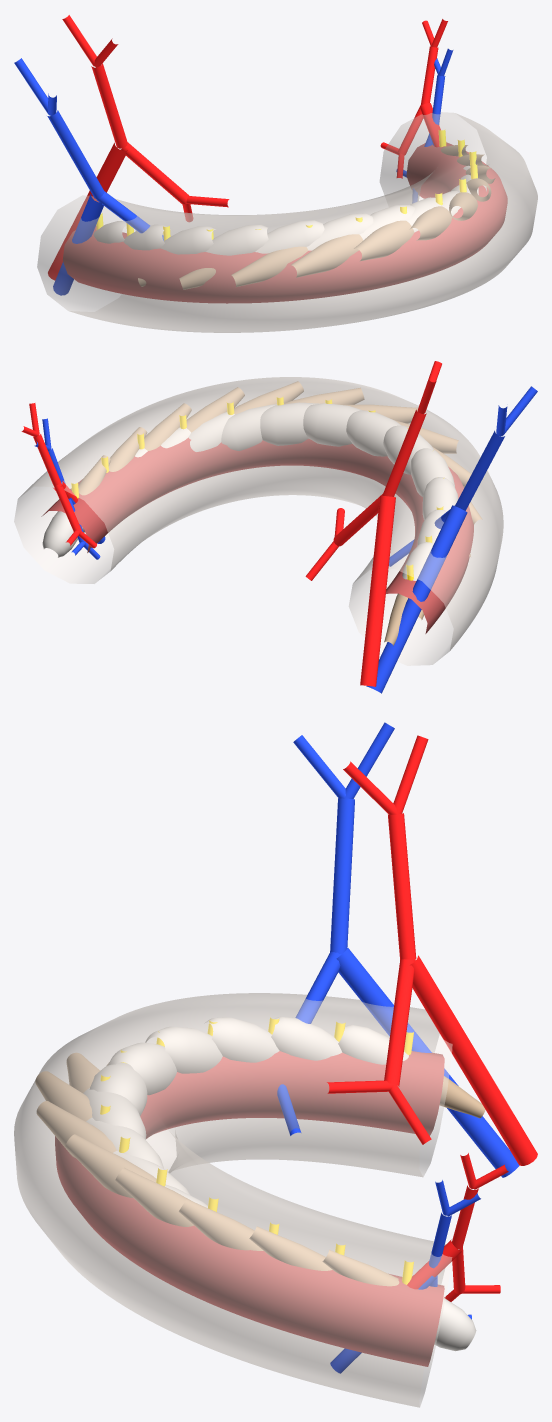
File: mandible_anatomy_color.glb
3 renders of one model, top to bottom at view 1: azimuth 30°, elevation 25°; view 2: azimuth 150°, elevation 25°; view 3: azimuth 270°, elevation 25°, orthographic. The views are drawn at different scales.
Parts seen in each view (by area): view 1: MandibleBone, Gingiva, Crown (×8), Root (×6), Artery_1 (×2), Vein_1 (×2), Artery_0, Vein_0, AnteriorArtery_1 (×2), Vein_2, Artery_2, AnteriorArtery_0 (+1 smaller); view 2: MandibleBone, Gingiva, Crown (×11), Root (×9), Artery_0, Vein_0, Artery_1 (×2), Vein_1, AnteriorArtery_1 (×2), Vein_2; view 3: MandibleBone, Gingiva, Crown (×9), Root (×9), Artery_0, Artery_1 (×2), Vein_1 (×2), Vein_0, Vein_2 (×2), Artery_2.
Boxes of the visible parts, bbox=[...] form: MandibleBone: bbox=[37, 112, 537, 332]; Gingiva: bbox=[63, 142, 507, 303]; Crown (×8): bbox=[93, 197, 443, 255]; Root (×6): bbox=[179, 192, 477, 289]; Artery_1 (×2): bbox=[91, 63, 189, 204]; Vein_1 (×2): bbox=[47, 110, 163, 240]; Artery_0: bbox=[48, 142, 127, 280]; Vein_0: bbox=[53, 194, 103, 295]; AnteriorArtery_1 (×2): bbox=[398, 46, 438, 154]; Vein_2: bbox=[14, 58, 48, 114]; Artery_2: bbox=[62, 15, 96, 66]; AnteriorArtery_0: bbox=[419, 103, 440, 147]; MandibleBone: bbox=[14, 377, 503, 665]; Gingiva: bbox=[41, 437, 473, 633]; Crown (×11): bbox=[42, 402, 458, 580]; Root (×9): bbox=[78, 381, 458, 645]; Artery_0: bbox=[360, 495, 395, 686]; Vein_0: bbox=[366, 505, 467, 693]; Artery_1 (×2): bbox=[333, 409, 426, 546]; Vein_1: bbox=[455, 430, 504, 510]; AnteriorArtery_1 (×2): bbox=[33, 434, 81, 531]; Vein_2: bbox=[504, 386, 537, 433]; MandibleBone: bbox=[14, 993, 452, 1407]; Gingiva: bbox=[55, 1051, 444, 1366]; Crown (×9): bbox=[83, 1016, 476, 1351]; Root (×9): bbox=[35, 1052, 485, 1286]; Artery_0: bbox=[410, 955, 537, 1165]; Artery_1 (×2): bbox=[384, 813, 416, 1086]; Vein_1 (×2): bbox=[295, 798, 354, 1023]; Vein_0: bbox=[336, 948, 519, 1177]; Vein_2 (×2): bbox=[293, 722, 394, 798]; Artery_2: bbox=[393, 735, 428, 814].
Bounding box in the file's own units: 0.2602 × 0.1571 × 0.1761.
